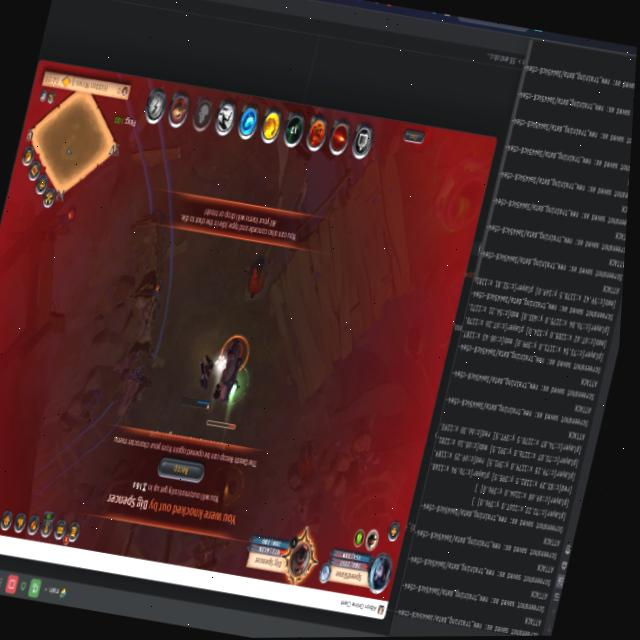ore: (195, 329, 260, 433)
red: (175, 346, 224, 415)
stone: (207, 349, 231, 383)
